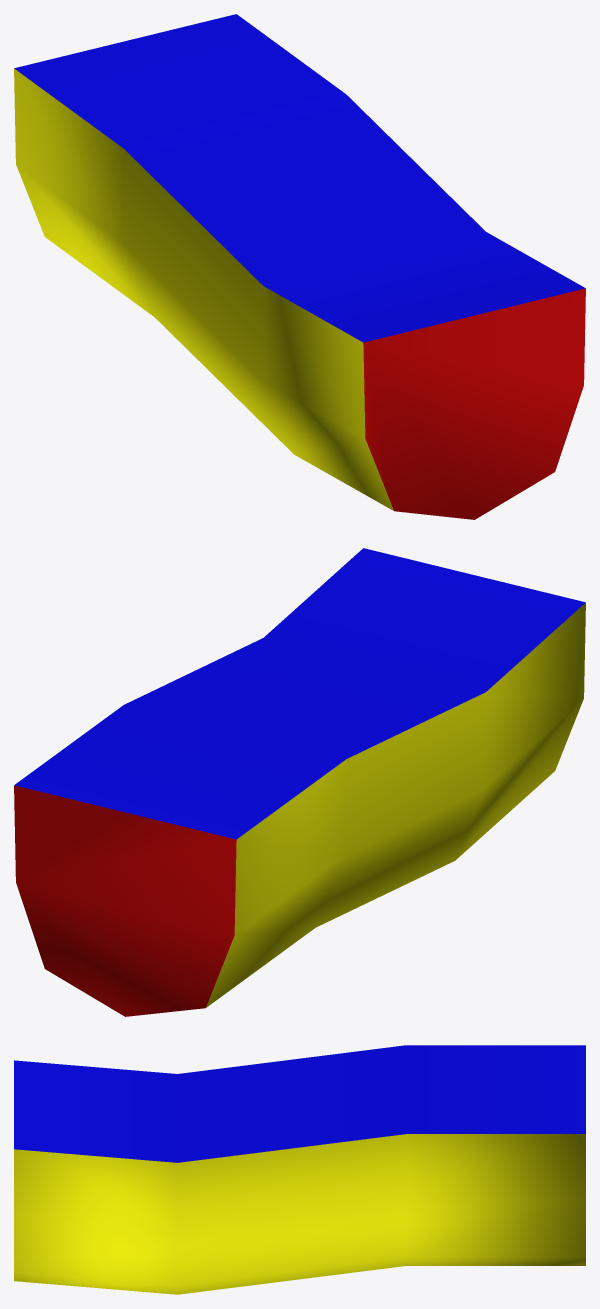
3 views of the same model, one above another, from view 1: azimuth 30°, elevation 25°; view 2: azimuth 150°, elevation 25°; view 3: azimuth 270°, elevation 25° (orthographic). The views are drawn at different scales.
Visible parts, largest first — view 1: polySurface116; view 2: polySurface116; view 3: polySurface116.
Part boxes in pixels (x1,y1,x2,y2): polySurface116: (14, 14, 585, 519); polySurface116: (14, 548, 585, 1016); polySurface116: (14, 1045, 585, 1294).
Size of the model in its own units: 23.58 by 24.26 by 64.12.
